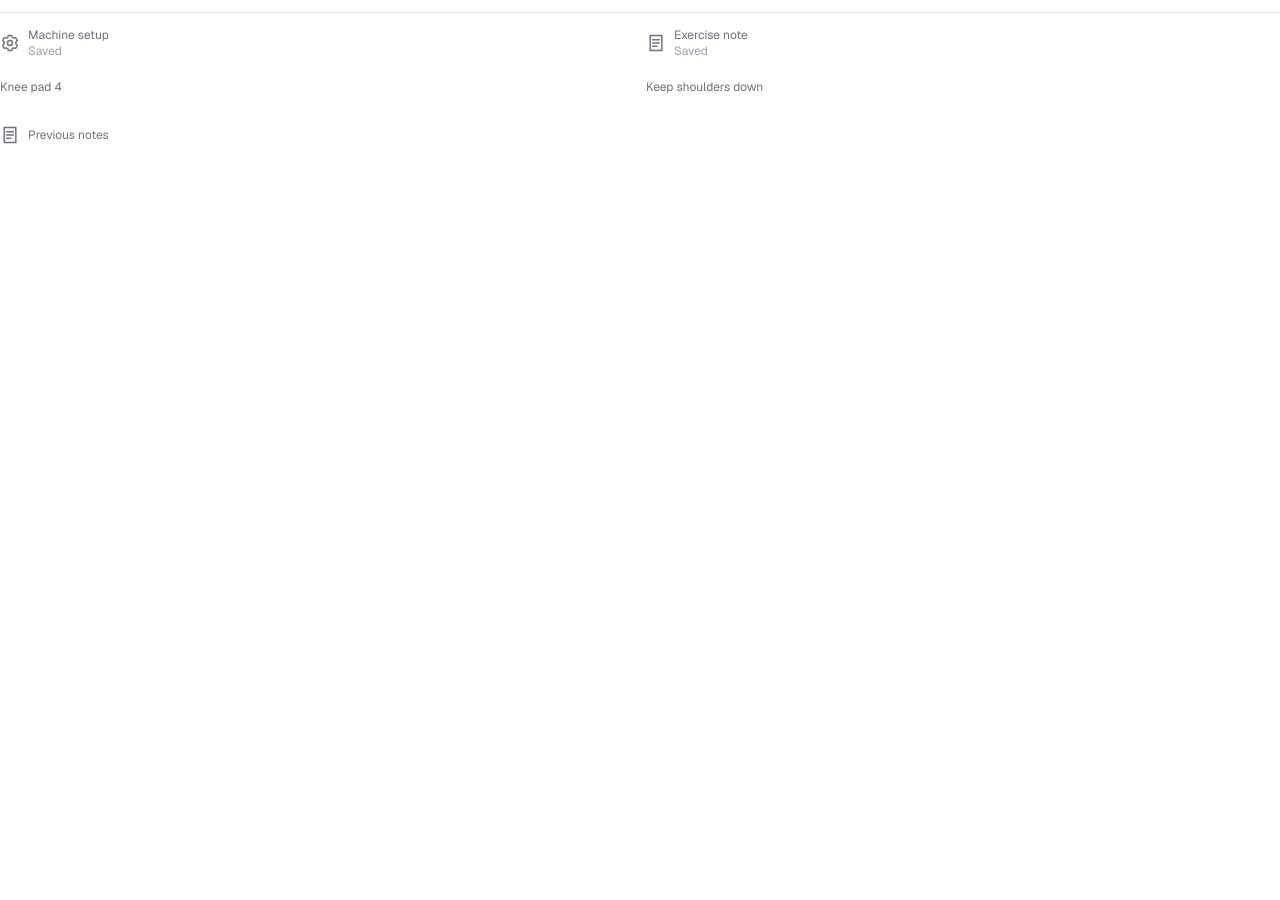
Scenario: shows saved machine settings and opens their editor independently of exercise notes
Click the button "Machine setup Saved".
click(69, 35)  # box [0,21,634,65]
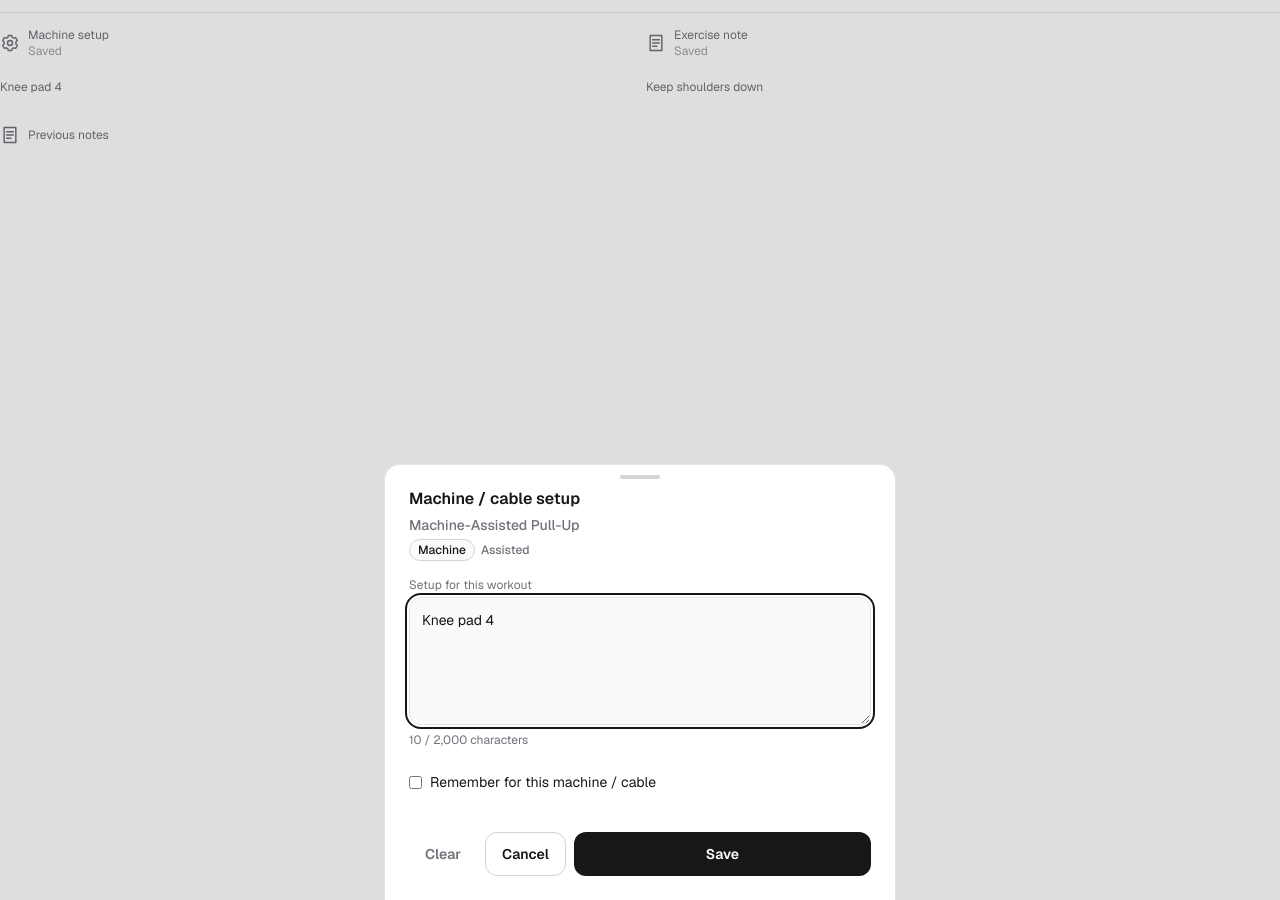
expect the text box labelled "Setup for this workout" holds "Knee pad 4": met, box [409,597,871,725]
